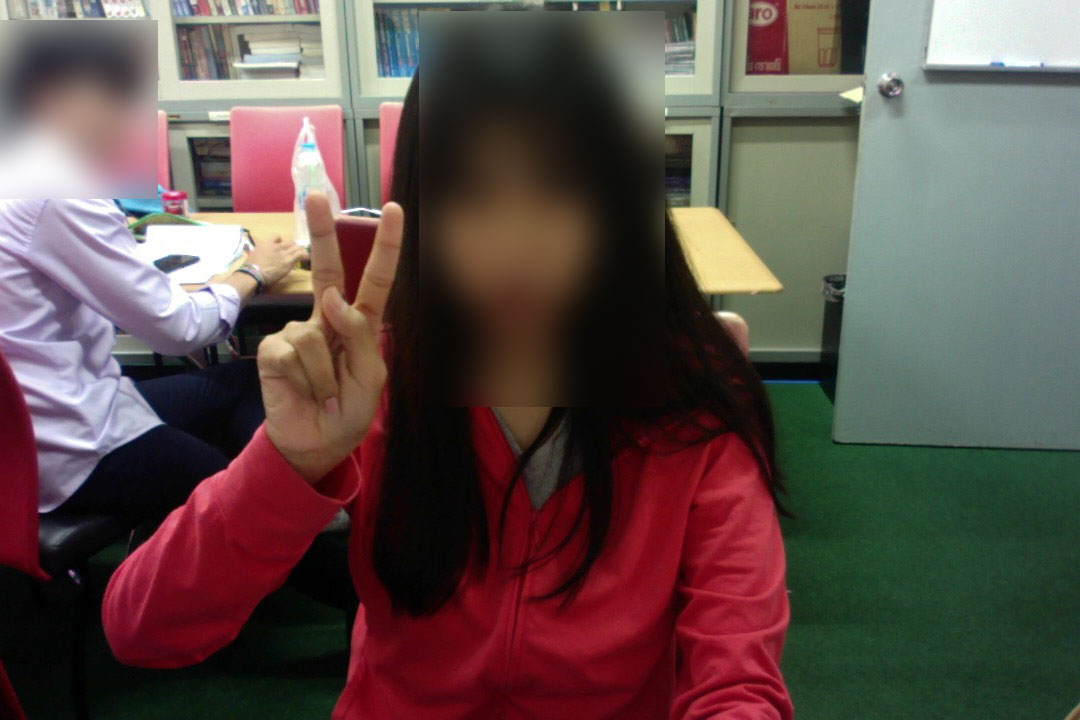ko: (237, 185, 406, 452)
